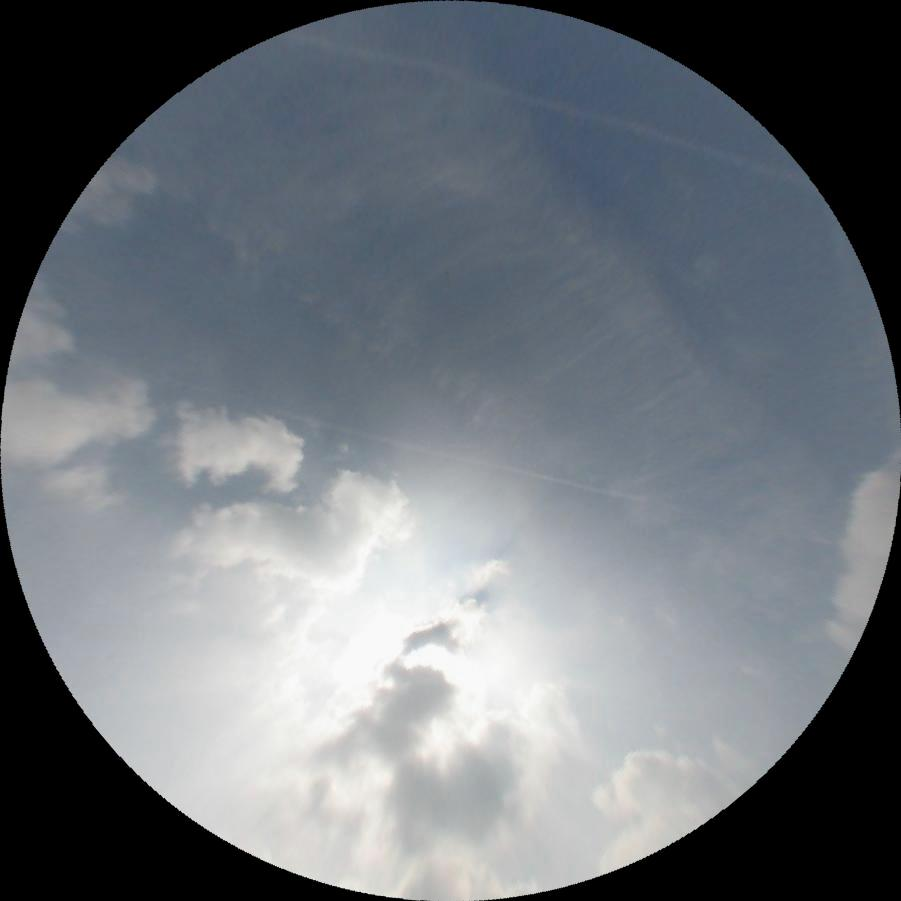contrail old: (288, 21, 797, 182), (178, 380, 643, 508)
sun: (317, 579, 543, 802)
